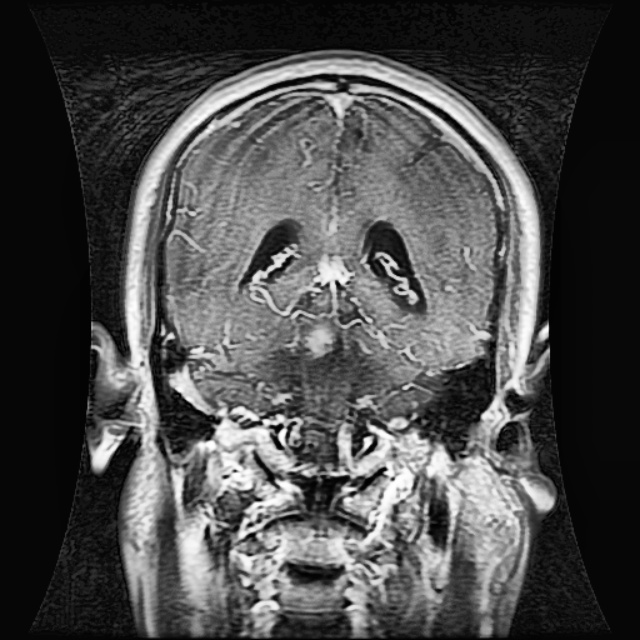Meningioma: (288, 303, 347, 359)
